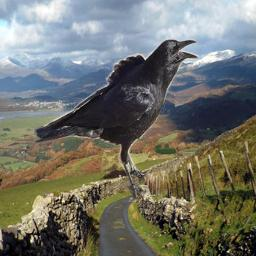Crow: (34, 38, 198, 202)
